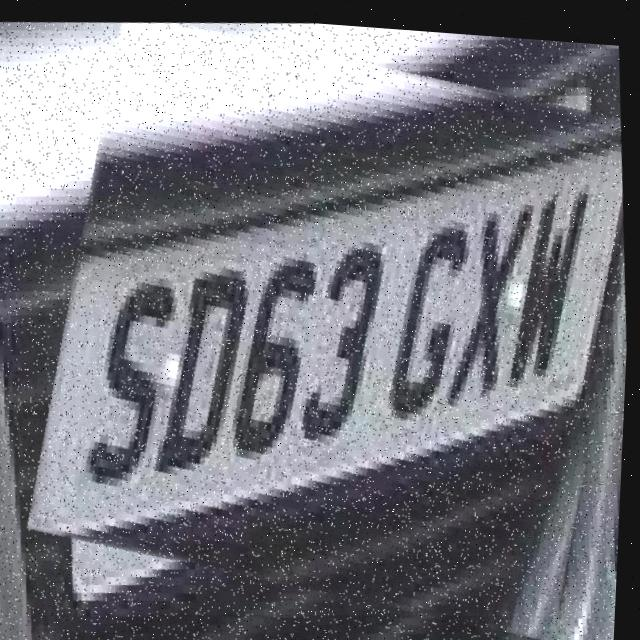LicensePlate: (18, 2, 640, 640)
